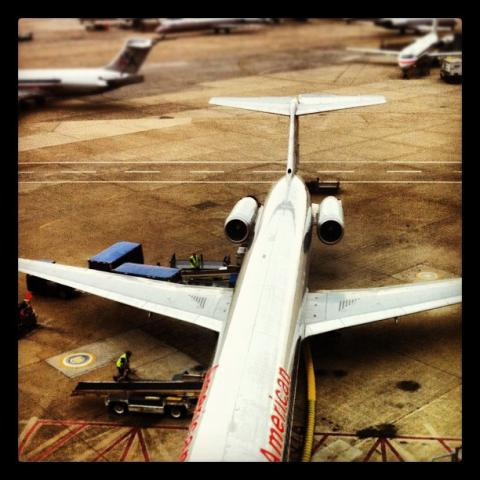truck: (102, 394, 194, 419)
